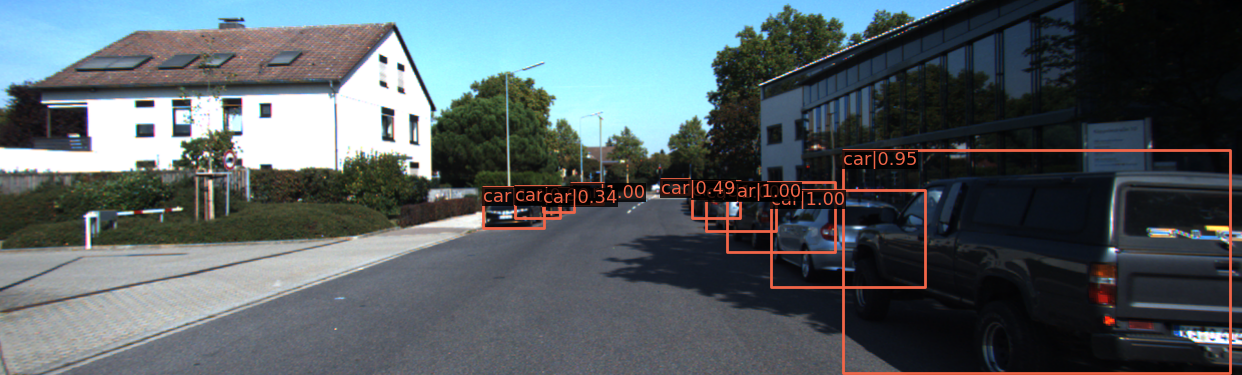car: (843, 156, 1242, 375), (770, 194, 921, 289), (732, 183, 824, 251), (715, 186, 778, 236), (485, 189, 544, 230), (702, 185, 753, 225), (574, 185, 600, 205)
